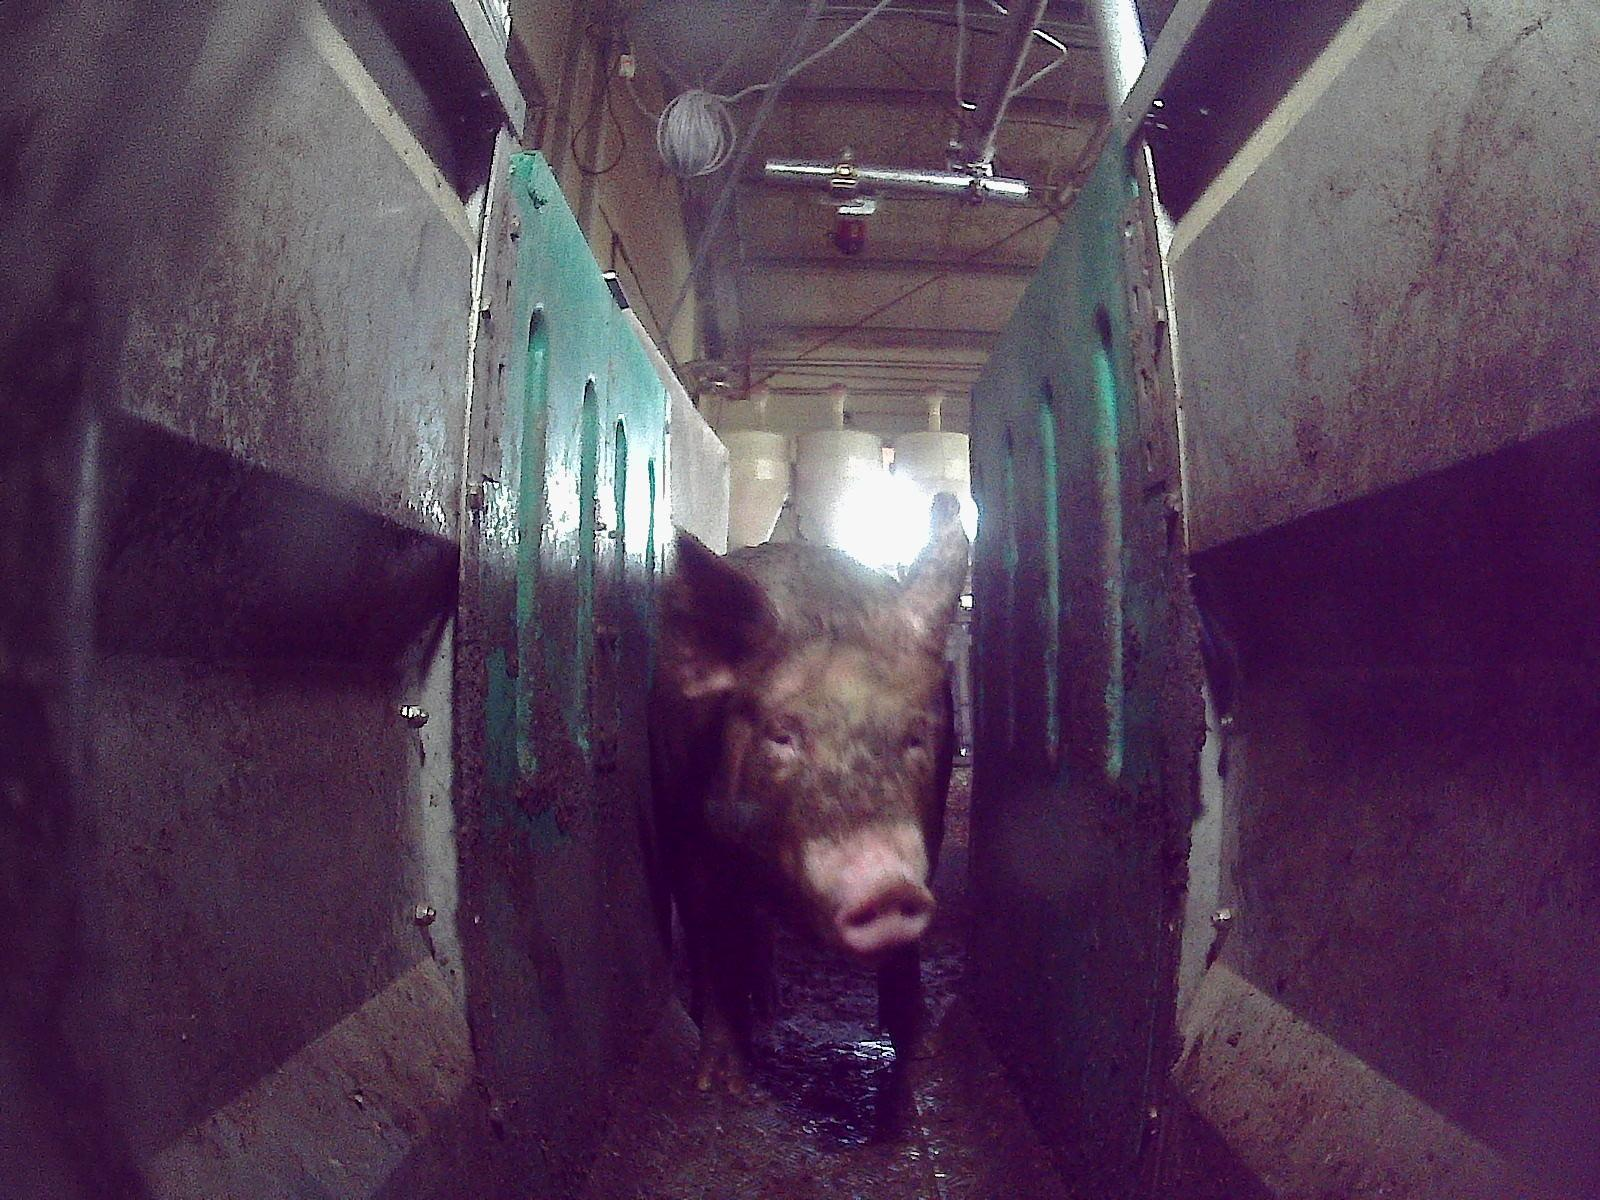Face: (732, 619, 943, 945)
